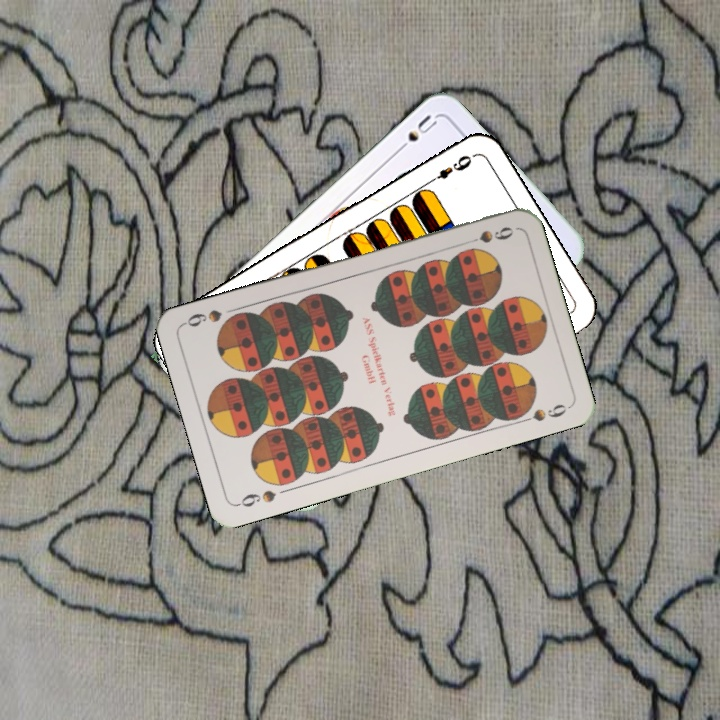E9: (423, 151, 474, 187)
S9: (459, 222, 516, 248), (233, 486, 279, 510)
SU: (391, 110, 440, 157)
